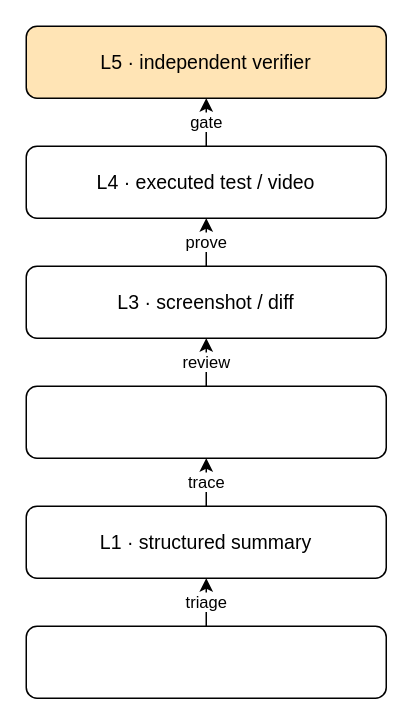
Some shapes in this 413 by 725 pixel diagram are drawn without their labels. The shapes that lost their labels are listed below. From the top down, each one's centre as x and y in pixels, then its label:
(x=205, y=421): L2 · logs + source links
(x=205, y=661): L0 · bot says done
